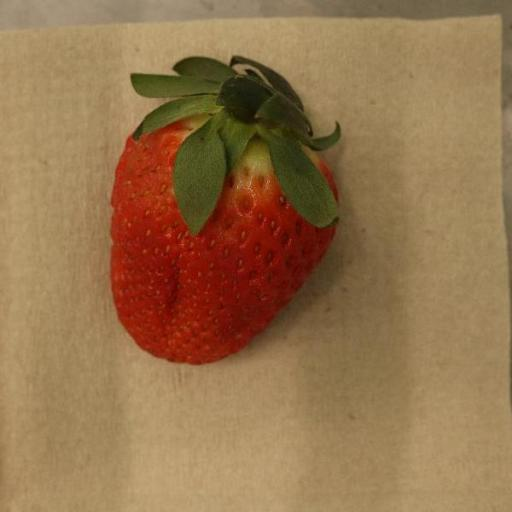Strawberry: (111, 56, 342, 367)
